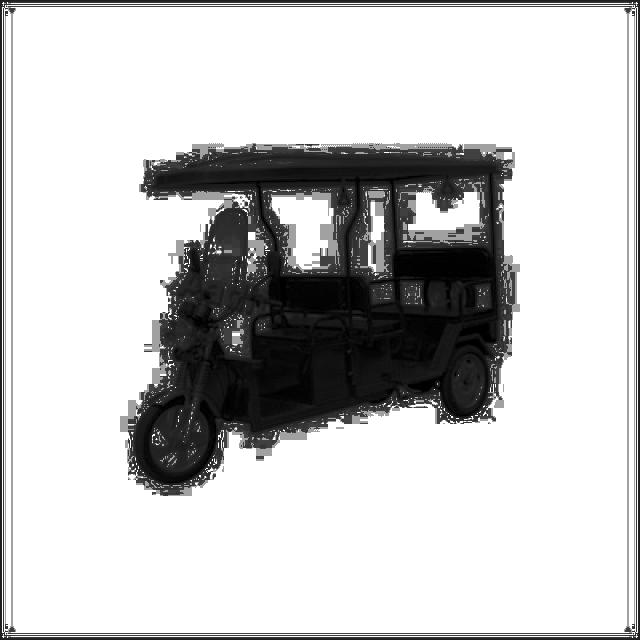Toto: (133, 132, 512, 480)
